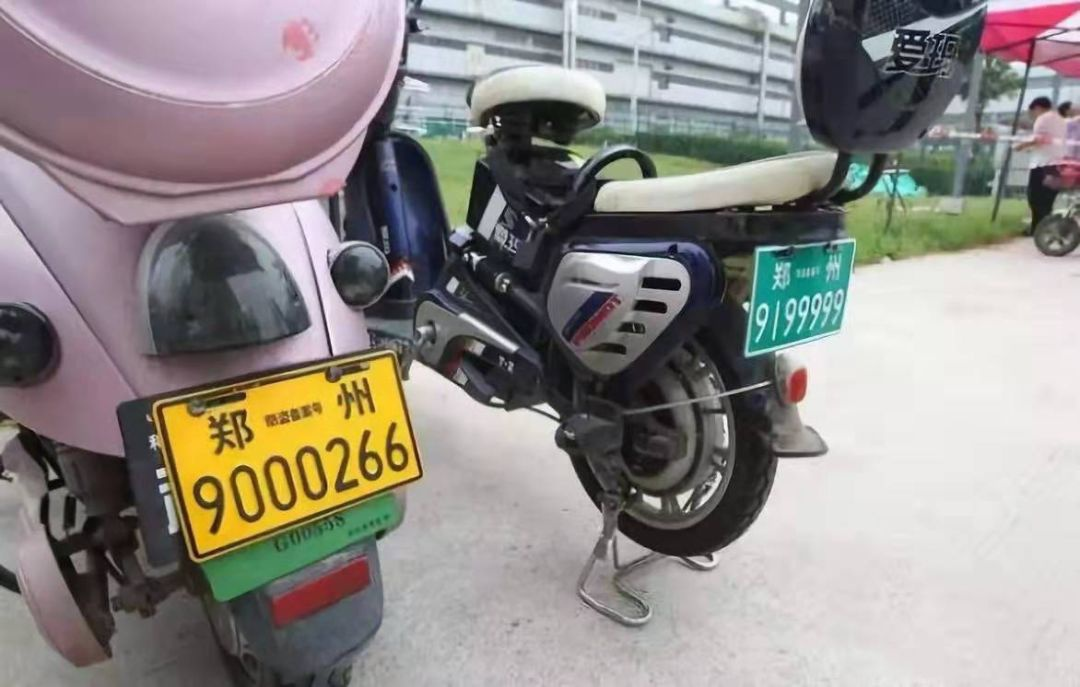non-vehicle: (357, 0, 847, 597), (1, 0, 410, 683)
